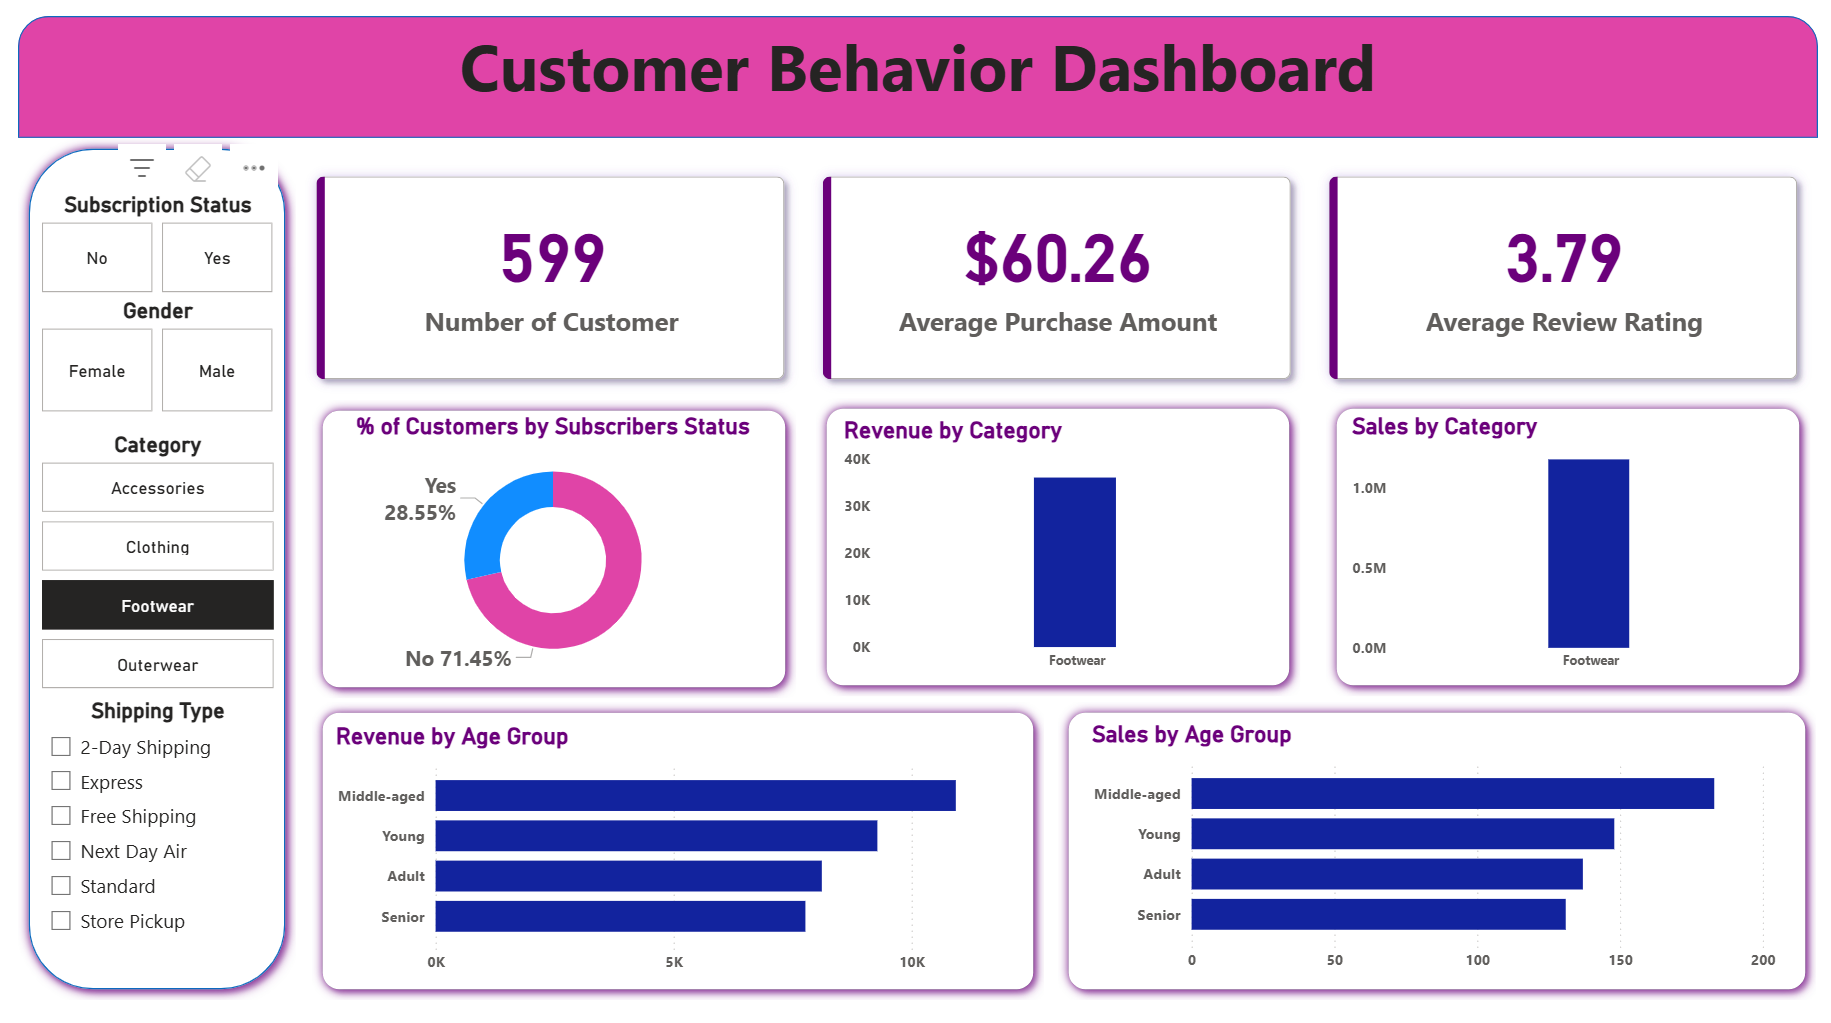

The page's visual inventory and layout, read from the dashboard file:
{"tool":"powerbi","page":{"name":"Page 1","canvas":[1500,820],"ordinal":0},"visuals":[{"type":"cardVisual","fields":{"Data":["customer_behavior customer.Number of Customer","customer_behavior customer.Average Purchase Amount","customer_behavior customer.Average Review Rating"]},"box":[231.7,116.7,1270,203.3],"z":0},{"type":"shape","box":[0,0,1500,101.7],"z":1000},{"type":"textbox","box":[0,0,1500,88.3],"z":2000},{"type":"shape","box":[245,320,403.3,248.3],"z":3000},{"type":"donutChart","title":"% of Customers by Subscribers Status","fields":{"Category":["customer_behavior customer.subscription_status"],"Y":["CountNonNull(customer_behavior customer.customer_id)"]},"box":[261.7,330,368.3,225],"z":4000},{"type":"shape","box":[0,101.7,231.7,718.3],"z":5000},{"type":"advancedSlicerVisual","title":"Subscription Status","fields":{"Values":["customer_behavior customer.subscription_status"]},"box":[15,146.7,203.3,95],"z":6000},{"type":"shape","box":[1090,318.3,403.3,248.3],"z":7000},{"type":"shape","box":[665,318.3,403.3,248.3],"z":8000},{"type":"clusteredColumnChart","title":"Revenue by Category","fields":{"Y":["Sum(customer_behavior customer.purchase_amount)"],"Category":["customer_behavior customer.category"]},"box":[683.3,333.3,366.7,218.3],"z":9000},{"type":"clusteredColumnChart","title":"Sales by Category","fields":{"Y":["Sum(customer_behavior customer.customer_id)"],"Category":["customer_behavior customer.category"]},"box":[1106.7,330,370,221.7],"z":10000},{"type":"advancedSlicerVisual","title":"Gender","fields":{"Values":["customer_behavior customer.gender"]},"box":[15,248.3,203.3,85],"z":11000},{"type":"advancedSlicerVisual","title":"Category","fields":{"Values":["customer_behavior customer.category"]},"box":[15,346.7,203.3,211.7],"z":12000},{"type":"slicer","title":"Shipping Type","fields":{"Values":["customer_behavior customer.shipping_type"]},"box":[15,568.3,203.3,205],"z":13000},{"type":"shape","box":[245,571.7,610,248.3],"z":14000},{"type":"clusteredBarChart","title":"Revenue by Age Group","fields":{"Y":["Sum(customer_behavior customer.purchase_amount)"],"Category":["customer_behavior customer.age_group"]},"box":[260,588.3,580,218.3],"z":15000},{"type":"shape","box":[866.7,571.7,631.7,248.3],"z":16000},{"type":"clusteredBarChart","title":"Sales by Age Group","fields":{"Y":["CountNonNull(customer_behavior customer.customer_id)"],"Category":["customer_behavior customer.age_group"]},"box":[890,586.7,580,218.3],"z":17000}]}

Visuals, with their boxes in screenshot pixels (x1, y1, x2, y2), scaled from the page's 1500x820 canvas onto the 1831x1023 screenshot:
cardVisual - customer_behavior customer.Number of Customer x customer_behavior customer.Average Purchase Amount: 283 146 1830 399
shape: 0 0 1830 127
textbox: 0 0 1830 110
shape: 299 399 791 709
"% of Customers by Subscribers Status" donutChart: 319 412 769 692
shape: 0 127 283 1022
"Subscription Status" advancedSlicerVisual: 18 183 266 302
shape: 1331 397 1823 707
shape: 812 397 1304 707
"Revenue by Category" clusteredColumnChart: 834 416 1282 688
"Sales by Category" clusteredColumnChart: 1351 412 1803 688
"Gender" advancedSlicerVisual: 18 310 266 416
"Category" advancedSlicerVisual: 18 433 266 697
"Shipping Type" slicer: 18 709 266 965
shape: 299 713 1044 1022
"Revenue by Age Group" clusteredBarChart: 317 734 1025 1006
shape: 1058 713 1829 1022
"Sales by Age Group" clusteredBarChart: 1086 732 1794 1004
